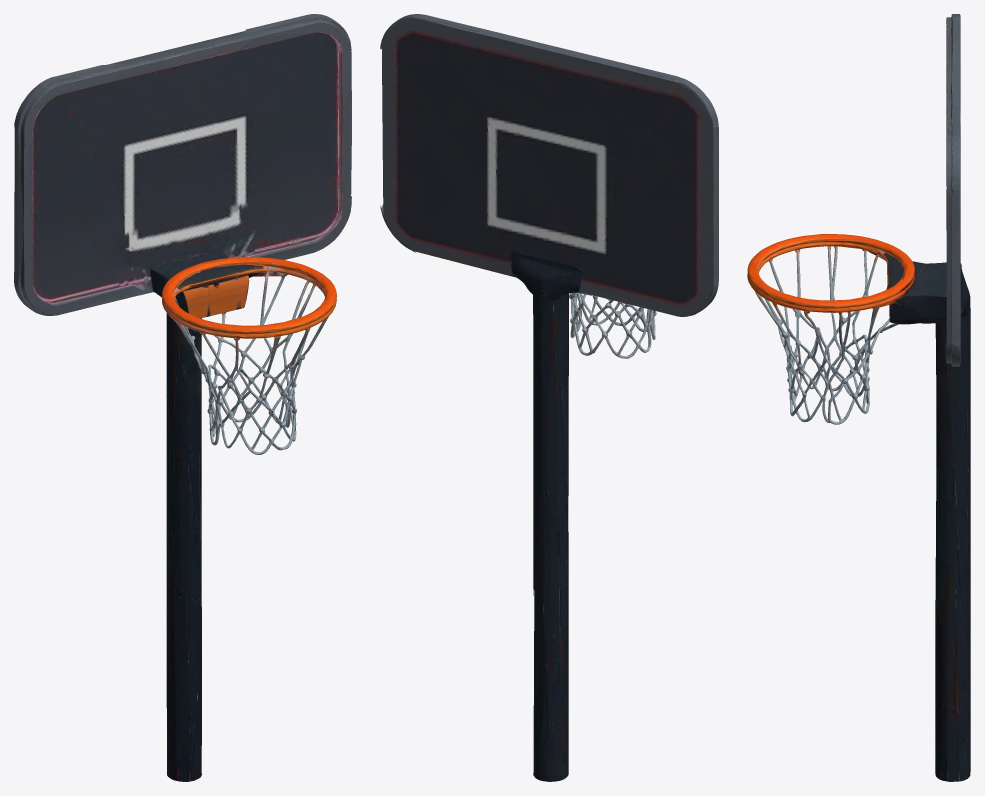
File: hoop.glb
The picture shows the model from 3 angles, left to right: view 1: azimuth 30°, elevation 25°; view 2: azimuth 150°, elevation 25°; view 3: azimuth 270°, elevation 25°; orthographic projection. The views are drawn at different scales.
Size of the model in its own units: 0.9156 by 1.9 by 0.5509.
Materials: 1 (1 with a texture image).
